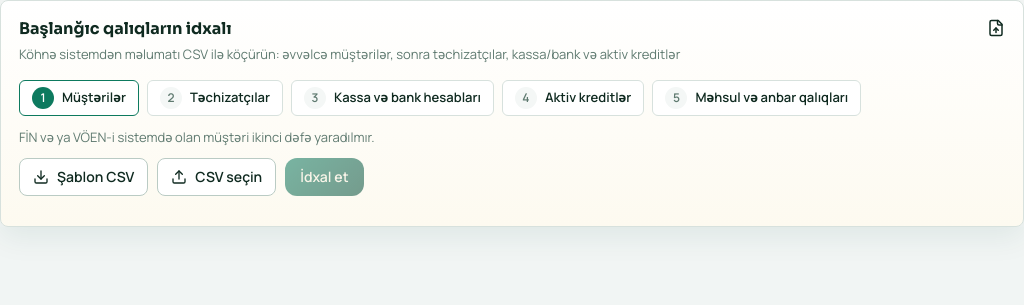
Scenario: blocks a file with errors, keeps the request key after a failed import and checks the permission
The width and height of the screenshot is (1024, 305).
Later steps or results of the test are not shown.
Click the tab "4 Aktiv kreditlər": (573, 98) [502,80,644,116]
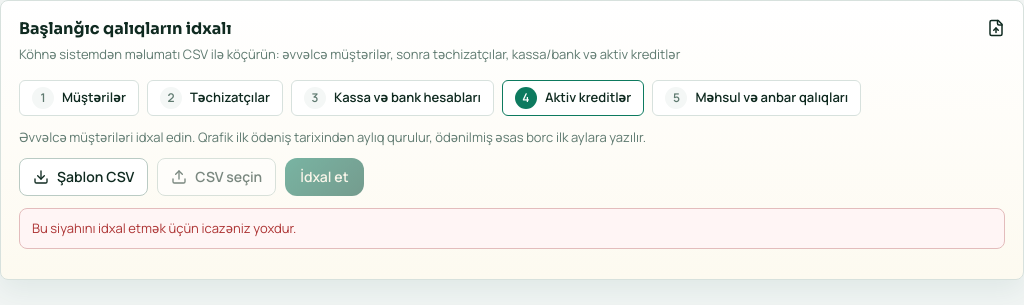
expect the element named "Aktiv kreditlər CSV faylı" is disabled: met, box [19,158,364,196]
expect the text "Bu siyahını idxal etmək üçün icazəniz yoxdur." is shown: met, box [19,208,1005,249]
